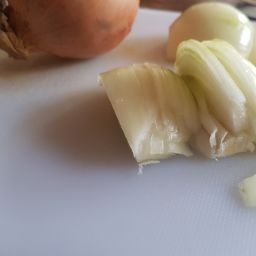Medium chopped onions: (93, 57, 200, 175), (154, 32, 256, 154), (3, 2, 142, 70), (232, 164, 256, 215)
